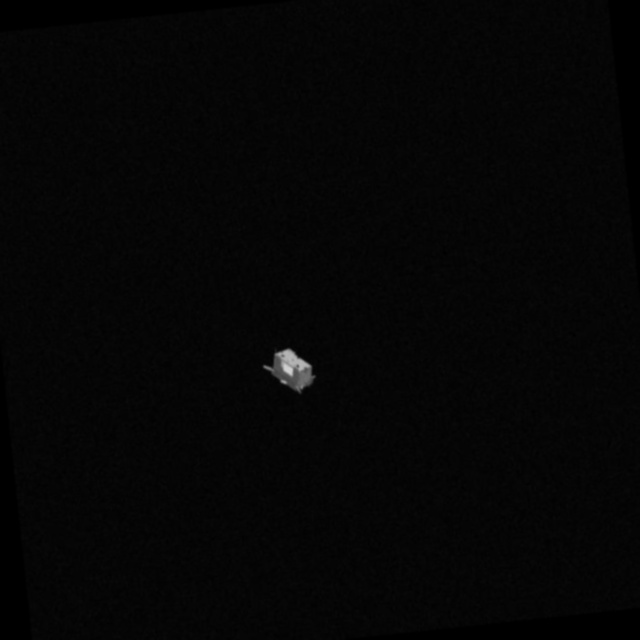satellite: (261, 342, 330, 404)
